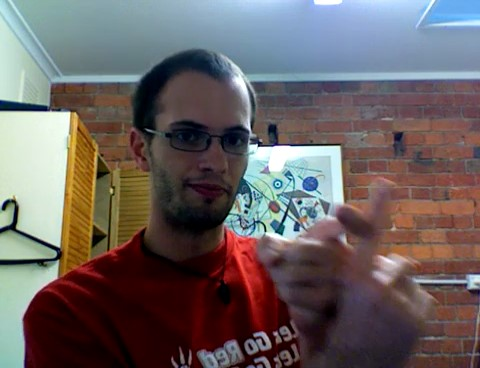K: (245, 175, 443, 368)
